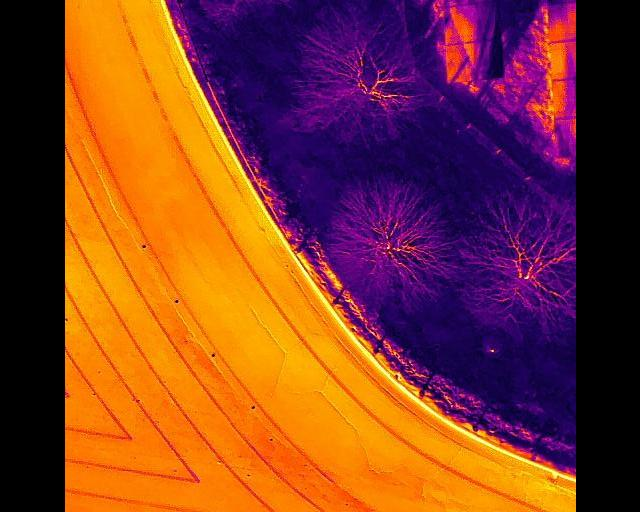Shadowing: (478, 2, 500, 42), (462, 44, 484, 81), (462, 3, 480, 44), (552, 80, 570, 120), (445, 44, 463, 83), (548, 4, 566, 43), (549, 42, 567, 79), (484, 41, 502, 78), (444, 4, 461, 43)
